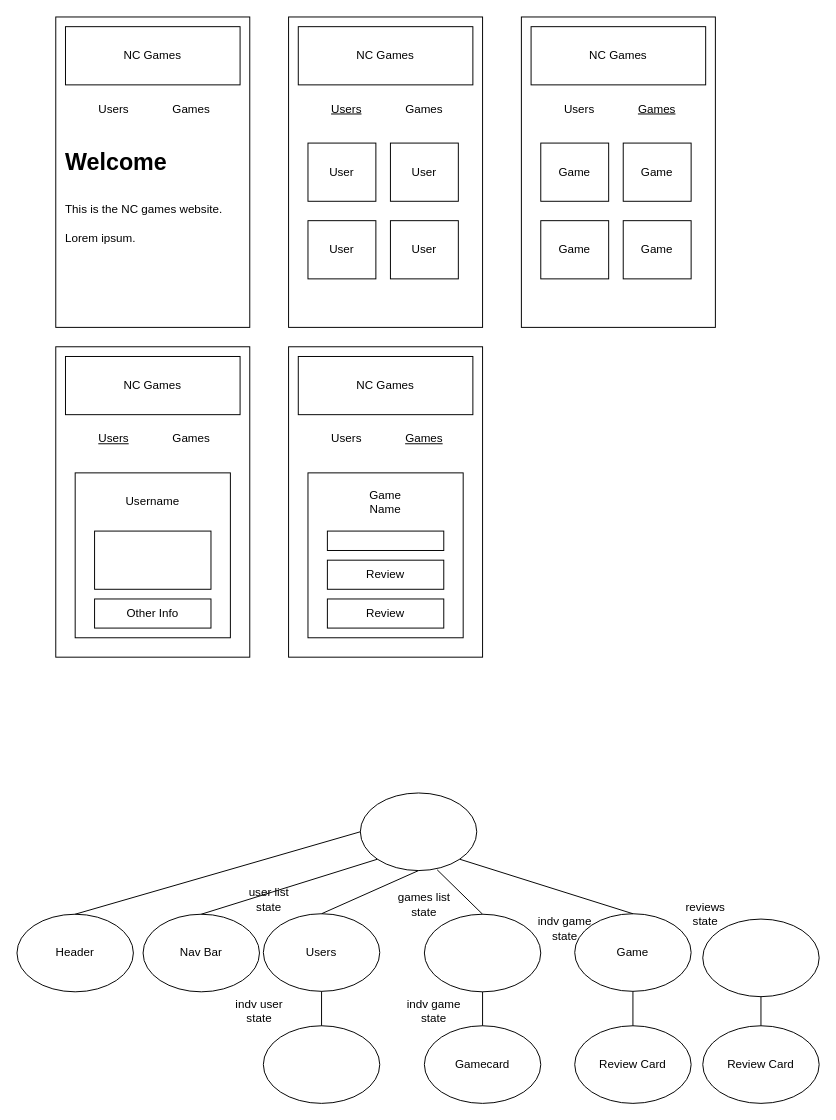
Some shapes in this 836 by 1120 pixel diagram are drawn without their labels. The shapes that lost their labels are listed below. From the top down, each one's centre as x and y in pixels, then its label:
At [152,559]: "Profile Pic".
At [385,540]: "Description".
At [418,831]: "App".
At [482,952]: "Gamelist".
At [760,957]: "Reviews".
At [321,1064]: "User Card".
